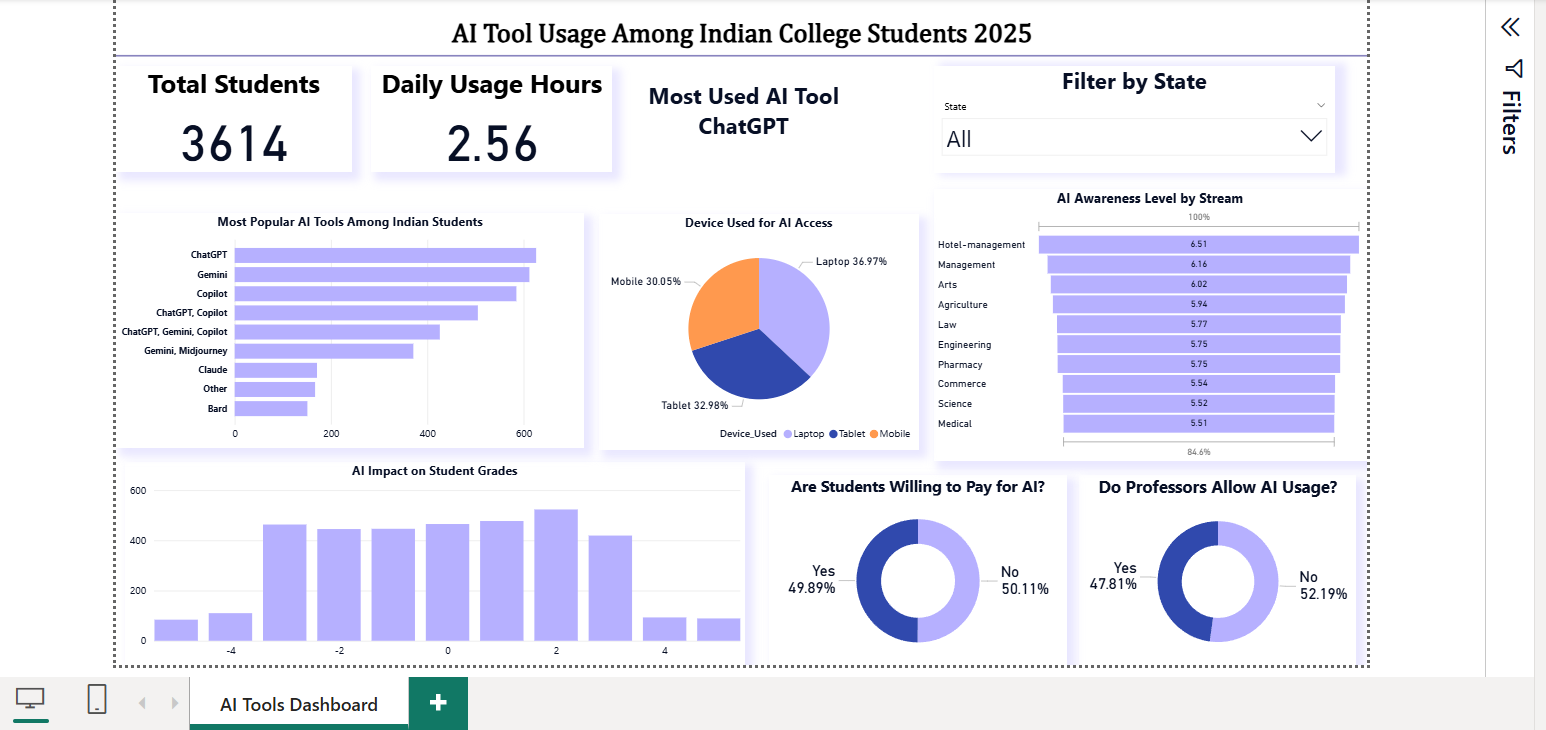

The dashboard page shown, as its layout file describes it:
{"tool":"powerbi","page":{"name":"AI Tools Dashboard","canvas":[1500,800],"ordinal":0},"visuals":[{"type":"card","title":"Total Students","fields":{"Values":["CountNonNull(Raw Data.Student_Name)"]},"box":[0,81,282.5,127.7],"z":0},{"type":"card","title":"Daily Usage Hours","fields":{"Values":["Avg(Raw Data.Daily_Usage_Hours)"]},"box":[305.9,81,289.7,127.7],"z":1000},{"type":"textbox","box":[620.7,93.6,264.5,86.4],"z":2000},{"type":"clusteredBarChart","title":"Most Popular AI Tools Among Indian Students","fields":{"Category":["Raw Data.AI_Tools_Used"],"Y":["CountNonNull(Raw Data.Student_Name)"]},"box":[0,257.3,561.3,282.5],"z":3000},{"type":"clusteredColumnChart","title":"AI Impact on Student Grades","fields":{"Category":["Raw Data.Impact_on_Grades"],"Y":["CountNonNull(Raw Data.Student_Name)"]},"box":[10.8,555.9,743,244.7],"z":4000},{"type":"pieChart","title":"Device Used for AI Access","fields":{"Category":["Raw Data.Device_Used"],"Y":["CountNonNull(Raw Data.Student_Name)"]},"box":[579.3,259.1,383.2,282.5],"z":5000},{"type":"slicer","title":"Filter by State","fields":{"Values":["Raw Data.State"]},"box":[980.5,81,482.2,129.5],"z":6000},{"type":"donutChart","title":"Are Students Willing to Pay for AI?","fields":{"Category":["Raw Data.Willing_to_Pay_for_Access"],"Y":["CountNonNull(Raw Data.Student_Name)"]},"box":[782.6,572.1,358,228.5],"z":7000},{"type":"donutChart","title":"Do Professors Allow AI Usage?","fields":{"Category":["Raw Data.Do_Professors_Allow_Use"],"Y":["CountNonNull(Raw Data.Student_Name)"]},"box":[1155,572.1,332.8,228.5],"z":8000},{"type":"funnel","title":"AI Awareness Level by Stream","fields":{"Category":["Raw Data.Stream"],"Y":["Avg(Raw Data.Awareness_Level)"]},"box":[980.5,228.5,520,327.4],"z":9000},{"type":"textbox","box":[59.4,19.8,1383.5,61.2],"z":10000},{"type":"shape","box":[0,0,1500.5,138.5],"z":11000}]}

Visuals, with their boxes on the page's 1500x800 design canvas (x1, y1, x2, y2). These are canvas units, not pixel positions in the 1546x730 screenshot, which may show the page scaled, cropped or inside an application window:
"Total Students" card: bbox=(0, 81, 282, 209)
"Daily Usage Hours" card: bbox=(306, 81, 596, 209)
textbox: bbox=(621, 94, 885, 180)
"Most Popular AI Tools Among Indian Students" clusteredBarChart: bbox=(0, 257, 561, 540)
"AI Impact on Student Grades" clusteredColumnChart: bbox=(11, 556, 754, 801)
"Device Used for AI Access" pieChart: bbox=(579, 259, 962, 542)
"Filter by State" slicer: bbox=(980, 81, 1463, 210)
"Are Students Willing to Pay for AI?" donutChart: bbox=(783, 572, 1141, 801)
"Do Professors Allow AI Usage?" donutChart: bbox=(1155, 572, 1488, 801)
"AI Awareness Level by Stream" funnel: bbox=(980, 228, 1500, 556)
textbox: bbox=(59, 20, 1443, 81)
shape: bbox=(0, 0, 1500, 138)
